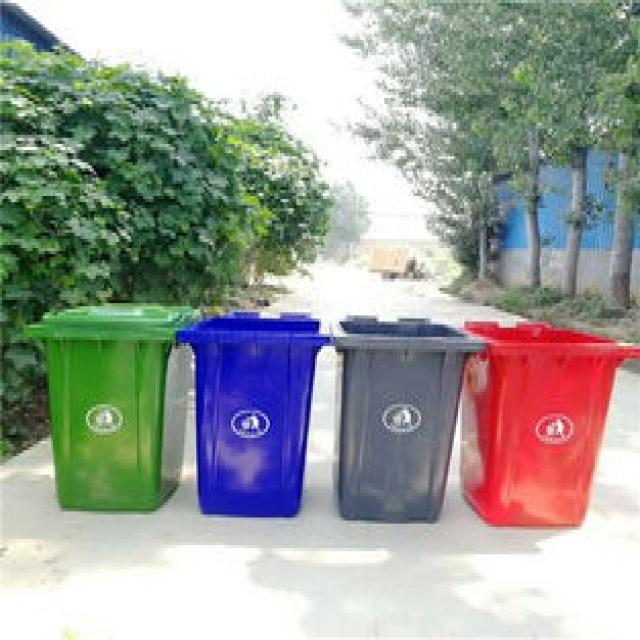garbage_bin: (456, 315, 638, 527), (25, 300, 190, 508), (174, 306, 329, 514), (331, 312, 485, 520)
